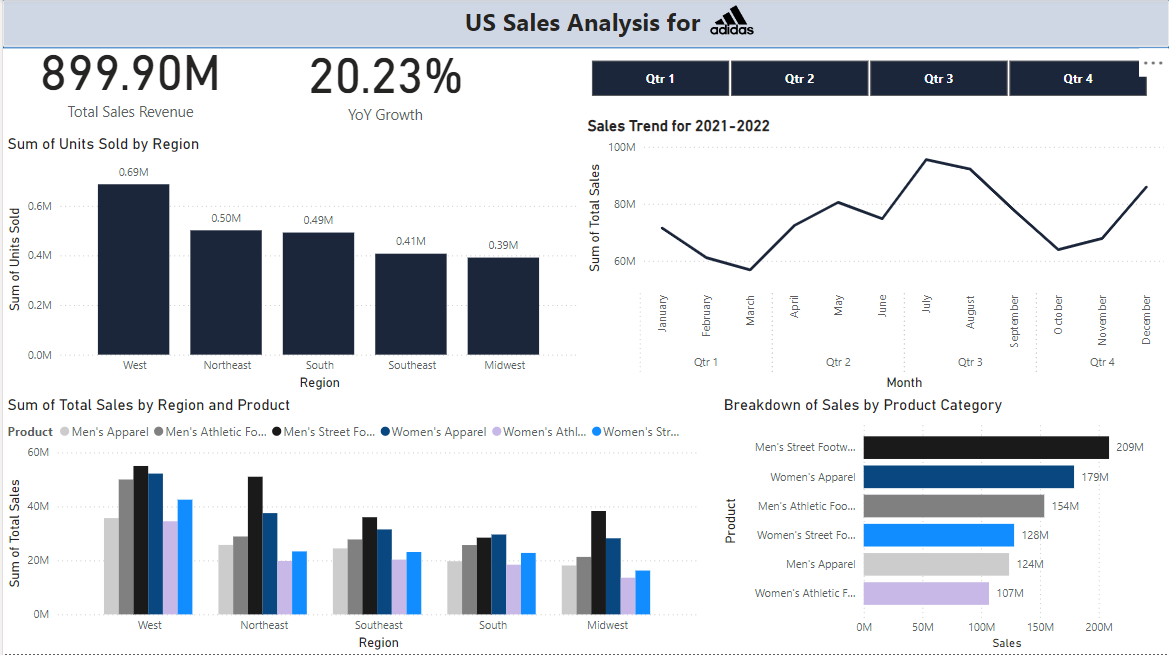

This screenshot's page, from the dashboard's own definition file:
{"tool":"powerbi","page":{"name":"Sales report","canvas":[1280,720],"ordinal":0},"visuals":[{"type":"card","fields":{"Values":["Data Sales Adidas.Total Sales Revenue"]},"box":[0,32.1,280.1,108],"z":0},{"type":"columnChart","fields":{"Category":["Data Sales Adidas.Region"],"Y":["Sum(Data Sales Adidas.Units Sold)"]},"box":[0,149.8,637.1,286],"z":1000},{"type":"clusteredColumnChart","fields":{"Y":["Sum(Data Sales Adidas.Total Sales)"],"Category":["Data Sales Adidas.Region"],"Series":["Data Sales Adidas.Product"]},"box":[0,435.7,769.4,284],"z":2000},{"type":"lineChart","title":"Sales Trend for 2021-2022","fields":{"Y":["Sum(Data Sales Adidas.Total Sales)"],"Category":["Data Sales Adidas.Invoice Date.Variation.Date Hierarchy.Quarter","Data Sales Adidas.Invoice Date.Variation.Date Hierarchy.Month"]},"box":[637.1,130.3,642.9,305.4],"z":3000},{"type":"clusteredBarChart","title":"Breakdown of Sales by Product Category","fields":{"Y":["Sum(Data Sales Adidas.Total Sales)"],"Category":["Data Sales Adidas.Product"]},"box":[785.9,435.7,494.1,284],"z":4000},{"type":"slicer","fields":{"Values":["Data Sales Adidas.Invoice Date.Variation.Date Hierarchy.Quarter"]},"box":[620.5,61.3,659.5,52.5],"z":5000},{"type":"card","fields":{"Values":["Data Sales Adidas.YoY Growth"]},"box":[244.3,32.9,279.9,101.5],"z":6000},{"type":"shape","box":[0,0,1280,55.3],"z":9500},{"type":"image","box":[650.7,2.3,300,42.9],"z":9750},{"type":"textbox","box":[0,2.3,1280,50.7],"z":10000}]}

Visuals, with their boxes in screenshot pixels (x1, y1, x2, y2), scaled from the page's 1280x720 canvas onto the 1169x655 screenshot:
card - Data Sales Adidas.Total Sales Revenue: region(0, 29, 256, 127)
columnChart - Data Sales Adidas.Region x Sum(Data Sales Adidas.Units Sold): region(0, 136, 582, 396)
clusteredColumnChart - Sum(Data Sales Adidas.Total Sales) x Data Sales Adidas.Region: region(0, 396, 703, 654)
"Sales Trend for 2021-2022" lineChart: region(582, 119, 1168, 396)
"Breakdown of Sales by Product Category" clusteredBarChart: region(718, 396, 1168, 654)
slicer - Data Sales Adidas.Invoice Date.Variation.Date Hierarchy.Quarter: region(567, 56, 1168, 104)
card - Data Sales Adidas.YoY Growth: region(223, 30, 479, 122)
shape: region(0, 0, 1168, 50)
image: region(594, 2, 868, 41)
textbox: region(0, 2, 1168, 48)
